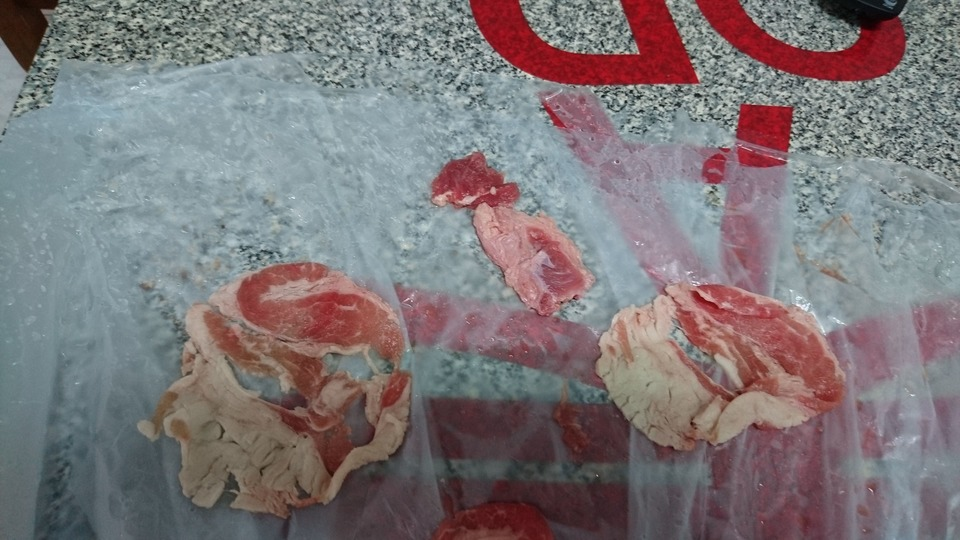restructured meat: (138, 270, 415, 510), (587, 276, 844, 445), (420, 144, 589, 311)
